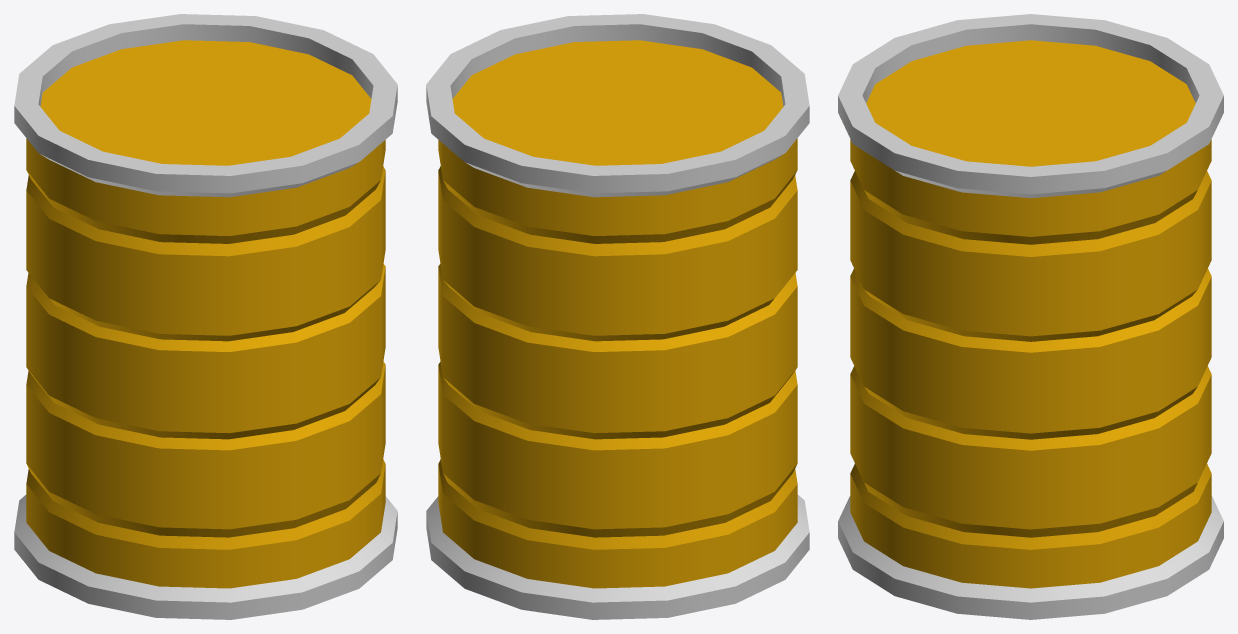
File: Fuel.fbx
3 views of the same model, side by side, from view 1: azimuth 30°, elevation 25°; view 2: azimuth 150°, elevation 25°; view 3: azimuth 270°, elevation 25° (orthographic).
Visible parts, largest first — view 1: pCylinder1; view 2: pCylinder1; view 3: pCylinder1.
Boxes of the visible parts, <box> form: pCylinder1: <box>14,14,397,619</box>; pCylinder1: <box>426,14,809,619</box>; pCylinder1: <box>838,14,1223,619</box>.
Size of the model in its own units: 9.17 by 11.61 by 9.17.
